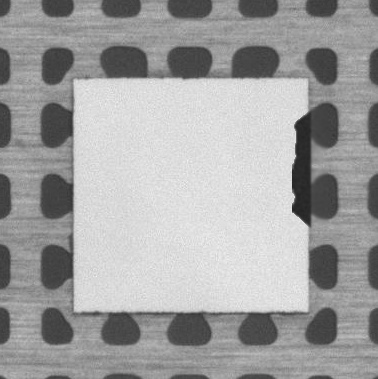DIE_BROKEN: (289, 113, 313, 226)
